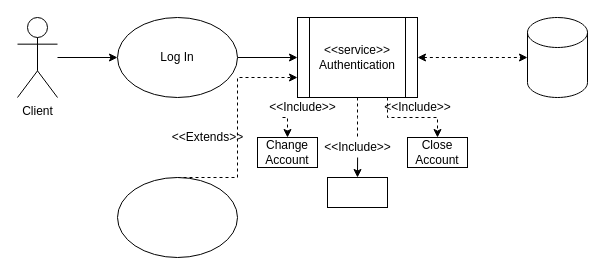
This 605x275 diagram has some shape labels left out. The shapes that lost their labels are listed below. From the top down, each one's centre as x and y in pixels, then its label:
At point (557, 57): "Data Base".
At point (357, 192): "Manage Account".
At point (177, 217): "Log Out".
